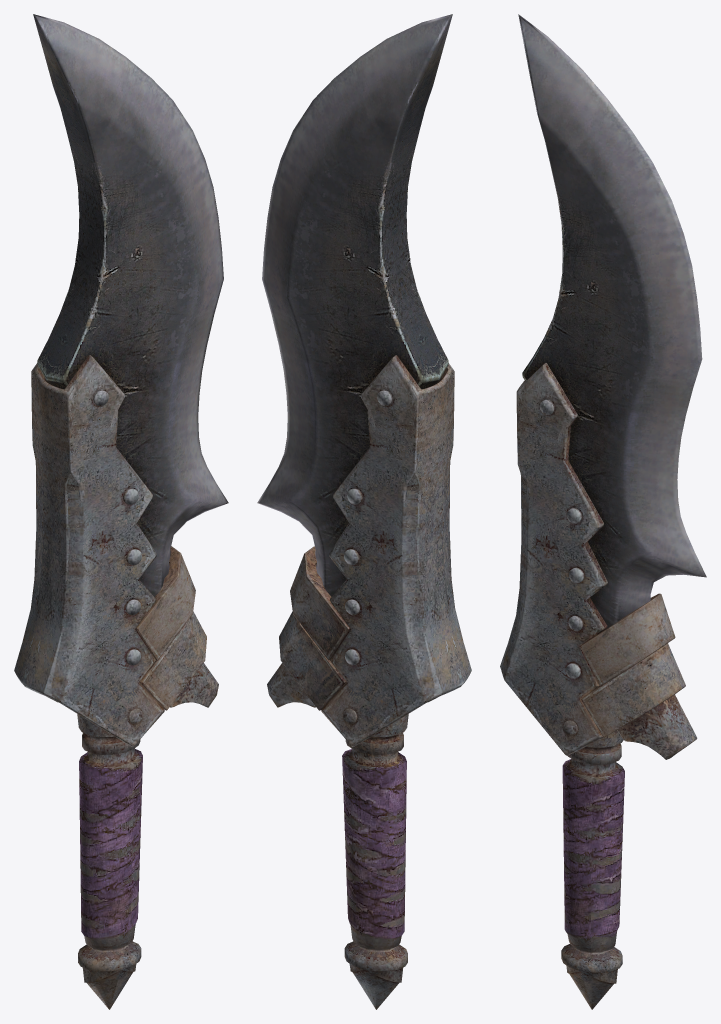
The model's file is bs_one001.obj.
3 renders of one model, left to right at view 1: azimuth 30°, elevation 25°; view 2: azimuth 150°, elevation 25°; view 3: azimuth 330°, elevation 25°, orthographic. The views are drawn at different scales.
Parts seen in each view (by area): view 1: bs_one001_000_LOD_1; view 2: bs_one001_000_LOD_1; view 3: bs_one001_000_LOD_1.
Boxes of the visible parts, left/top/right/bottom form: bs_one001_000_LOD_1: left=14, top=14, right=228, bottom=1009; bs_one001_000_LOD_1: left=257, top=14, right=471, bottom=1009; bs_one001_000_LOD_1: left=500, top=14, right=706, bottom=1009.
Bounding box in the file's own units: 23.52 × 111 × 10.45.
